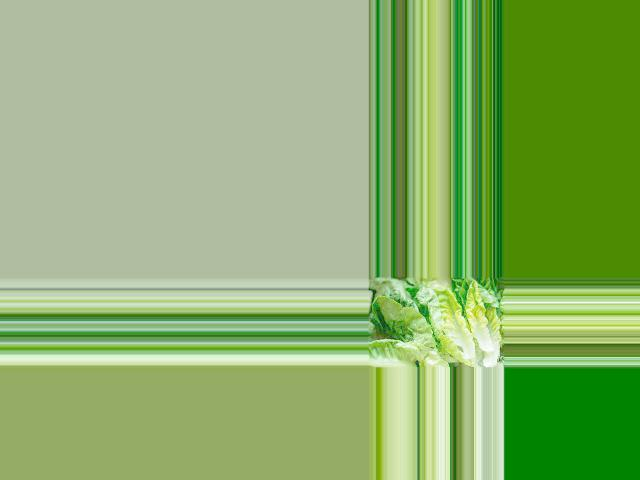lettuce: (414, 283, 501, 368)
